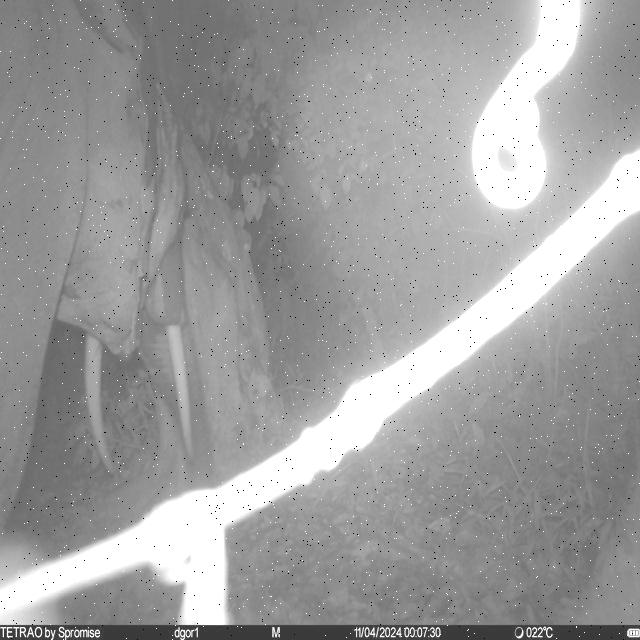elephant: (2, 0, 220, 536)
tusk: (82, 333, 117, 476), (164, 324, 197, 465)
